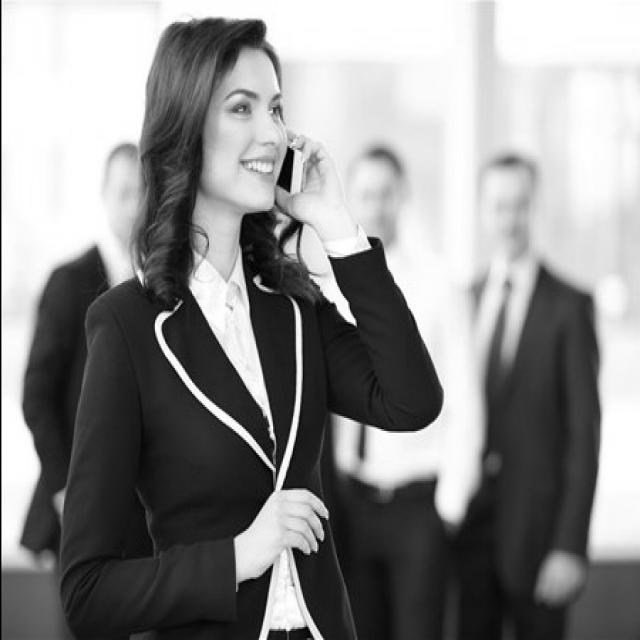phone: (256, 83, 330, 233)
